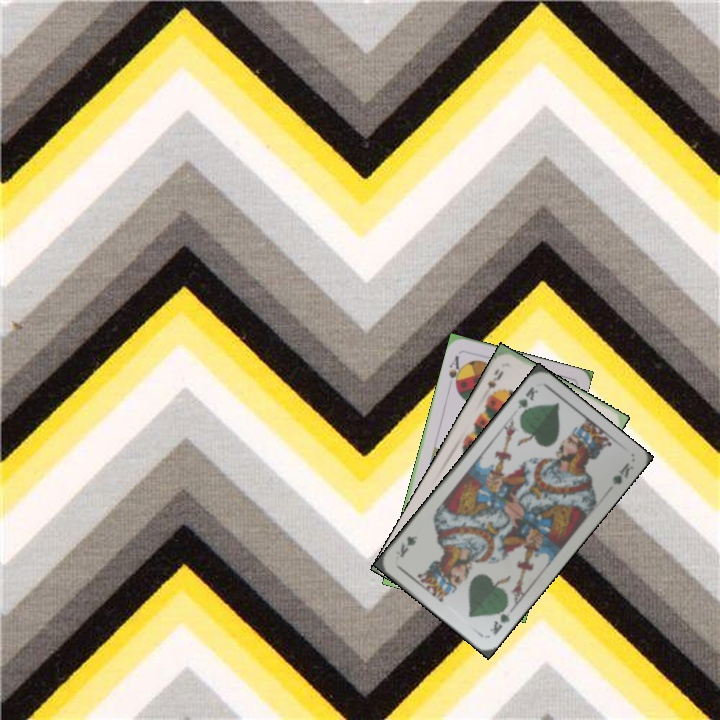GK: (485, 601, 516, 637), (513, 382, 541, 420)
S9: (483, 365, 506, 400)
SA: (444, 351, 465, 392)
